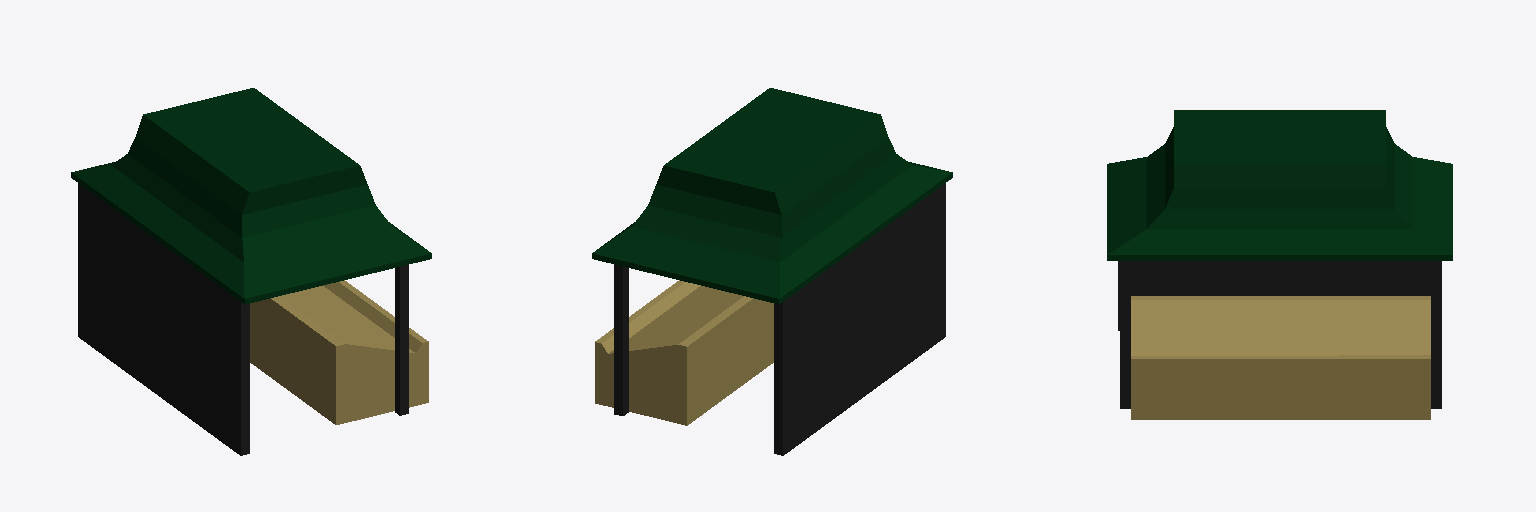
Rendered from Market_Shop_B.obj.
The picture shows the model from 3 angles: view 1: azimuth 30°, elevation 25°; view 2: azimuth 150°, elevation 25°; view 3: azimuth 270°, elevation 25°; orthographic projection.
Visible parts, largest first — view 1: Market_Shop_B; view 2: Market_Shop_B; view 3: Market_Shop_B.
Part boxes in pixels (x1,y1,x2,y2): Market_Shop_B: (71, 88, 431, 455); Market_Shop_B: (592, 88, 952, 455); Market_Shop_B: (1107, 110, 1452, 419).
Bounding box in the file's own units: 11.94 × 13.63 × 18.27.